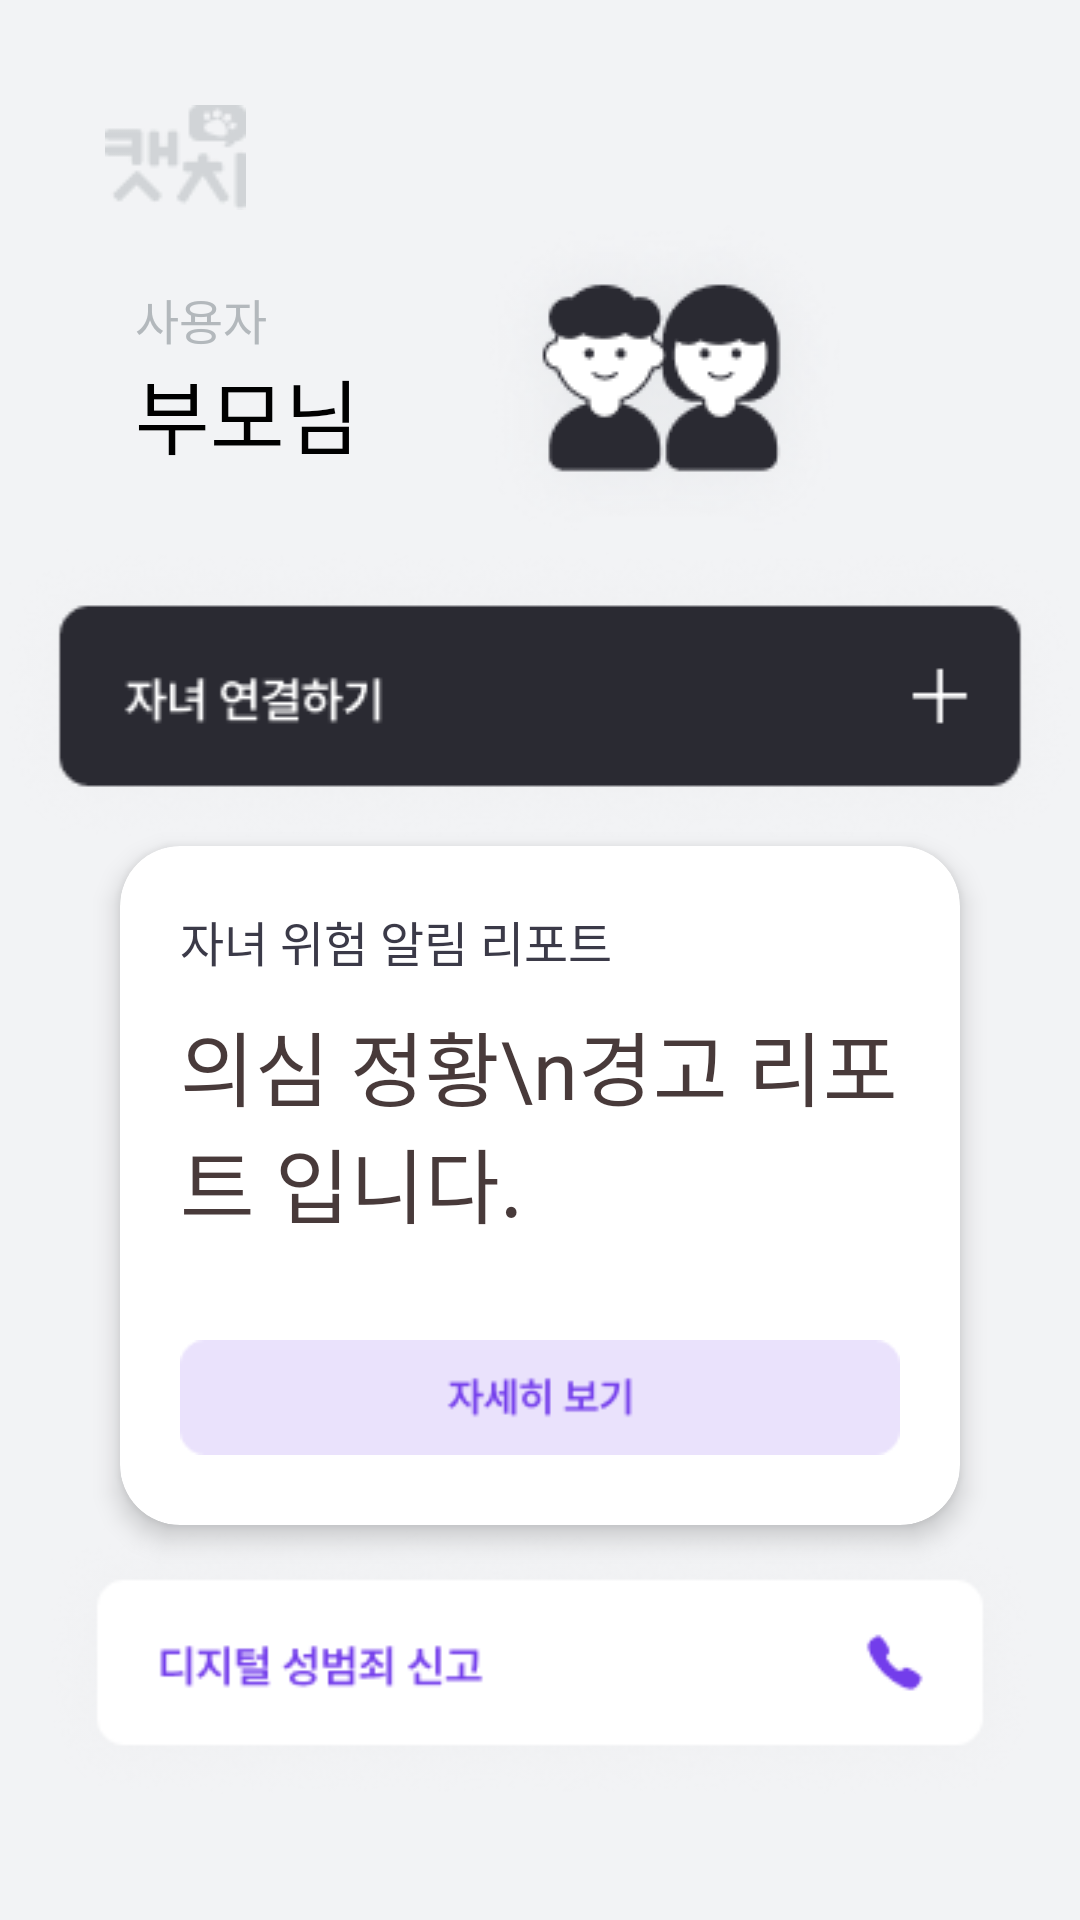

Named icons in this screenshot (1080*1920) and their centers, (x=x, y=y):
parents: (x=661, y=378)
